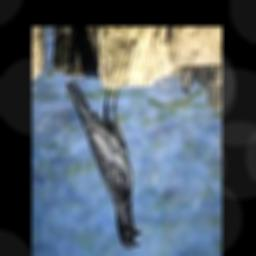Crow: (66, 80, 141, 249)
